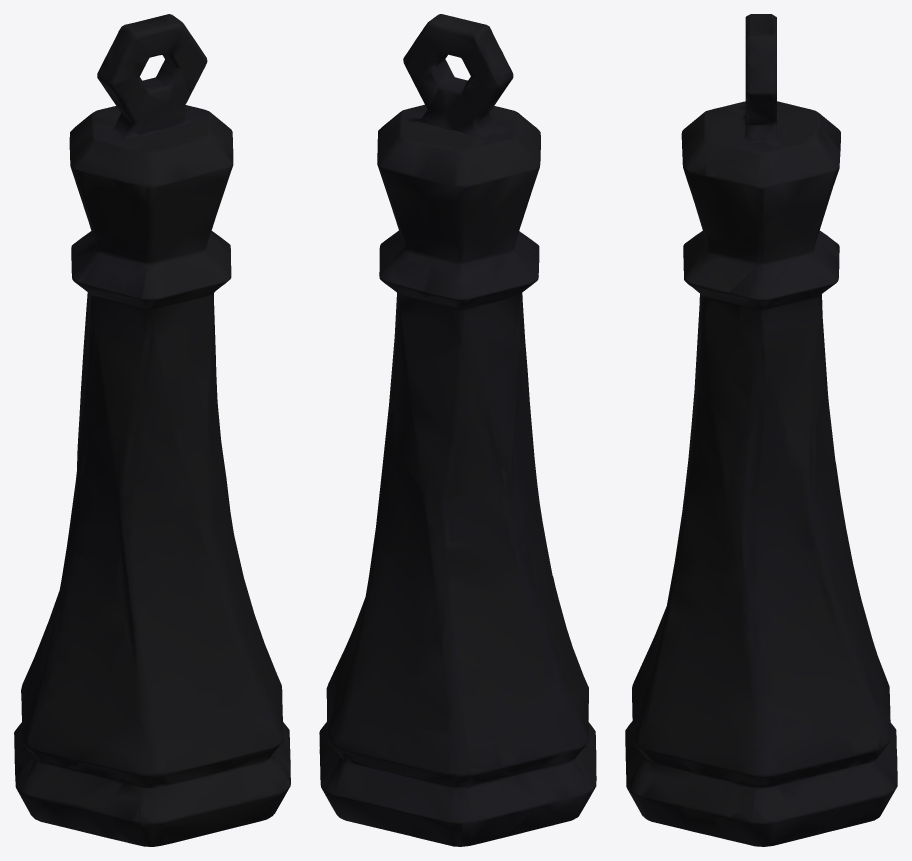
Rendered from king-black.glb.
3 views of the same model, side by side, from view 1: azimuth 30°, elevation 25°; view 2: azimuth 150°, elevation 25°; view 3: azimuth 270°, elevation 25° (orthographic).
Bounding box in the file's own units: 0.5823 × 1.6 × 0.5171.
1 material, 1 textured.
